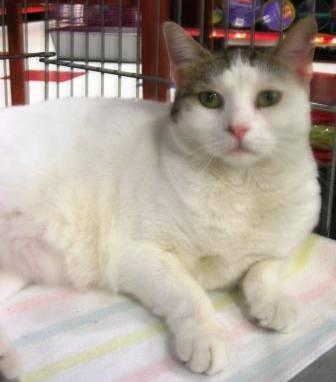cat: (0, 19, 319, 373)
